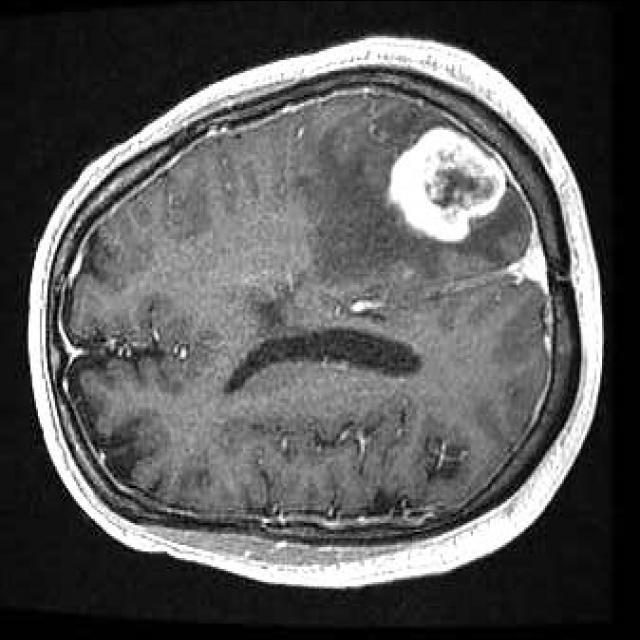tumor: (391, 127, 509, 242)
